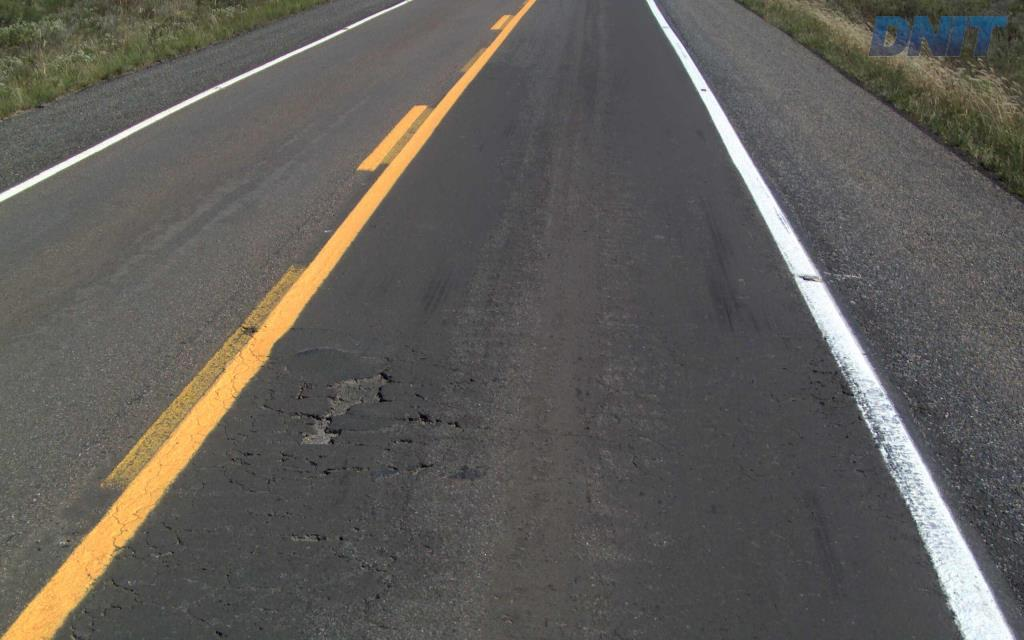crack: (809, 368, 851, 419)
pothole: (299, 364, 400, 453)
